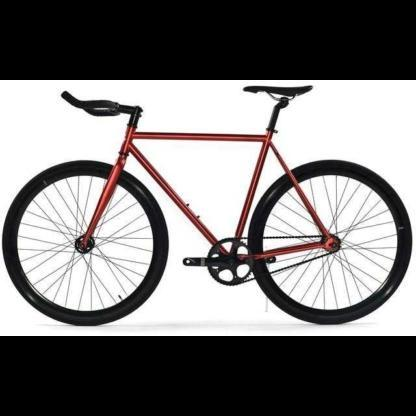Bicycle: (0, 82, 415, 333)
